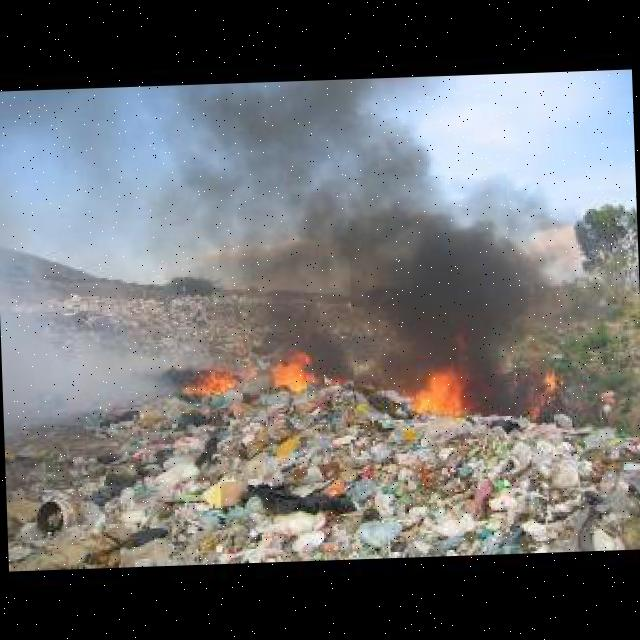fire: (346, 172, 514, 420), (248, 330, 306, 404), (159, 352, 220, 410)
